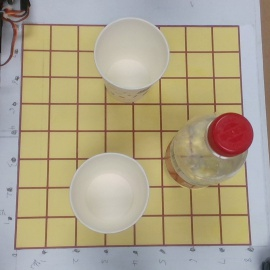bottle: (151, 112, 254, 196)
cup: (80, 16, 170, 106), (62, 151, 151, 234)
